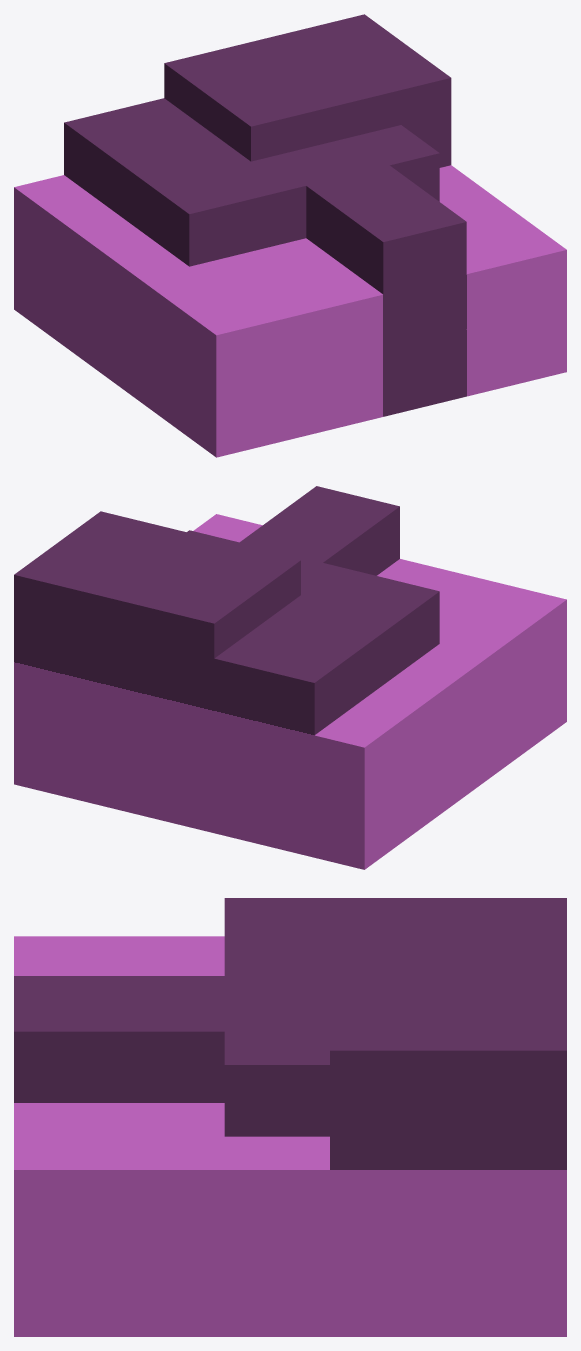
Rendered from PurpleRock.dae.
The picture shows the model from 3 angles, top to bottom: view 1: azimuth 30°, elevation 25°; view 2: azimuth 150°, elevation 25°; view 3: azimuth 270°, elevation 25°; orthographic projection. The views are drawn at different scales.
Parts seen in each view (by area): view 1: PurpleRock; view 2: PurpleRock; view 3: PurpleRock.
Part boxes in pixels (bbox=[...]): PurpleRock: bbox=[14, 14, 566, 457]; PurpleRock: bbox=[14, 486, 566, 869]; PurpleRock: bbox=[14, 898, 566, 1336].
Size of the model in its own units: 2.1 by 1.2 by 2.1.
Materials: 1 (1 with a texture image).
